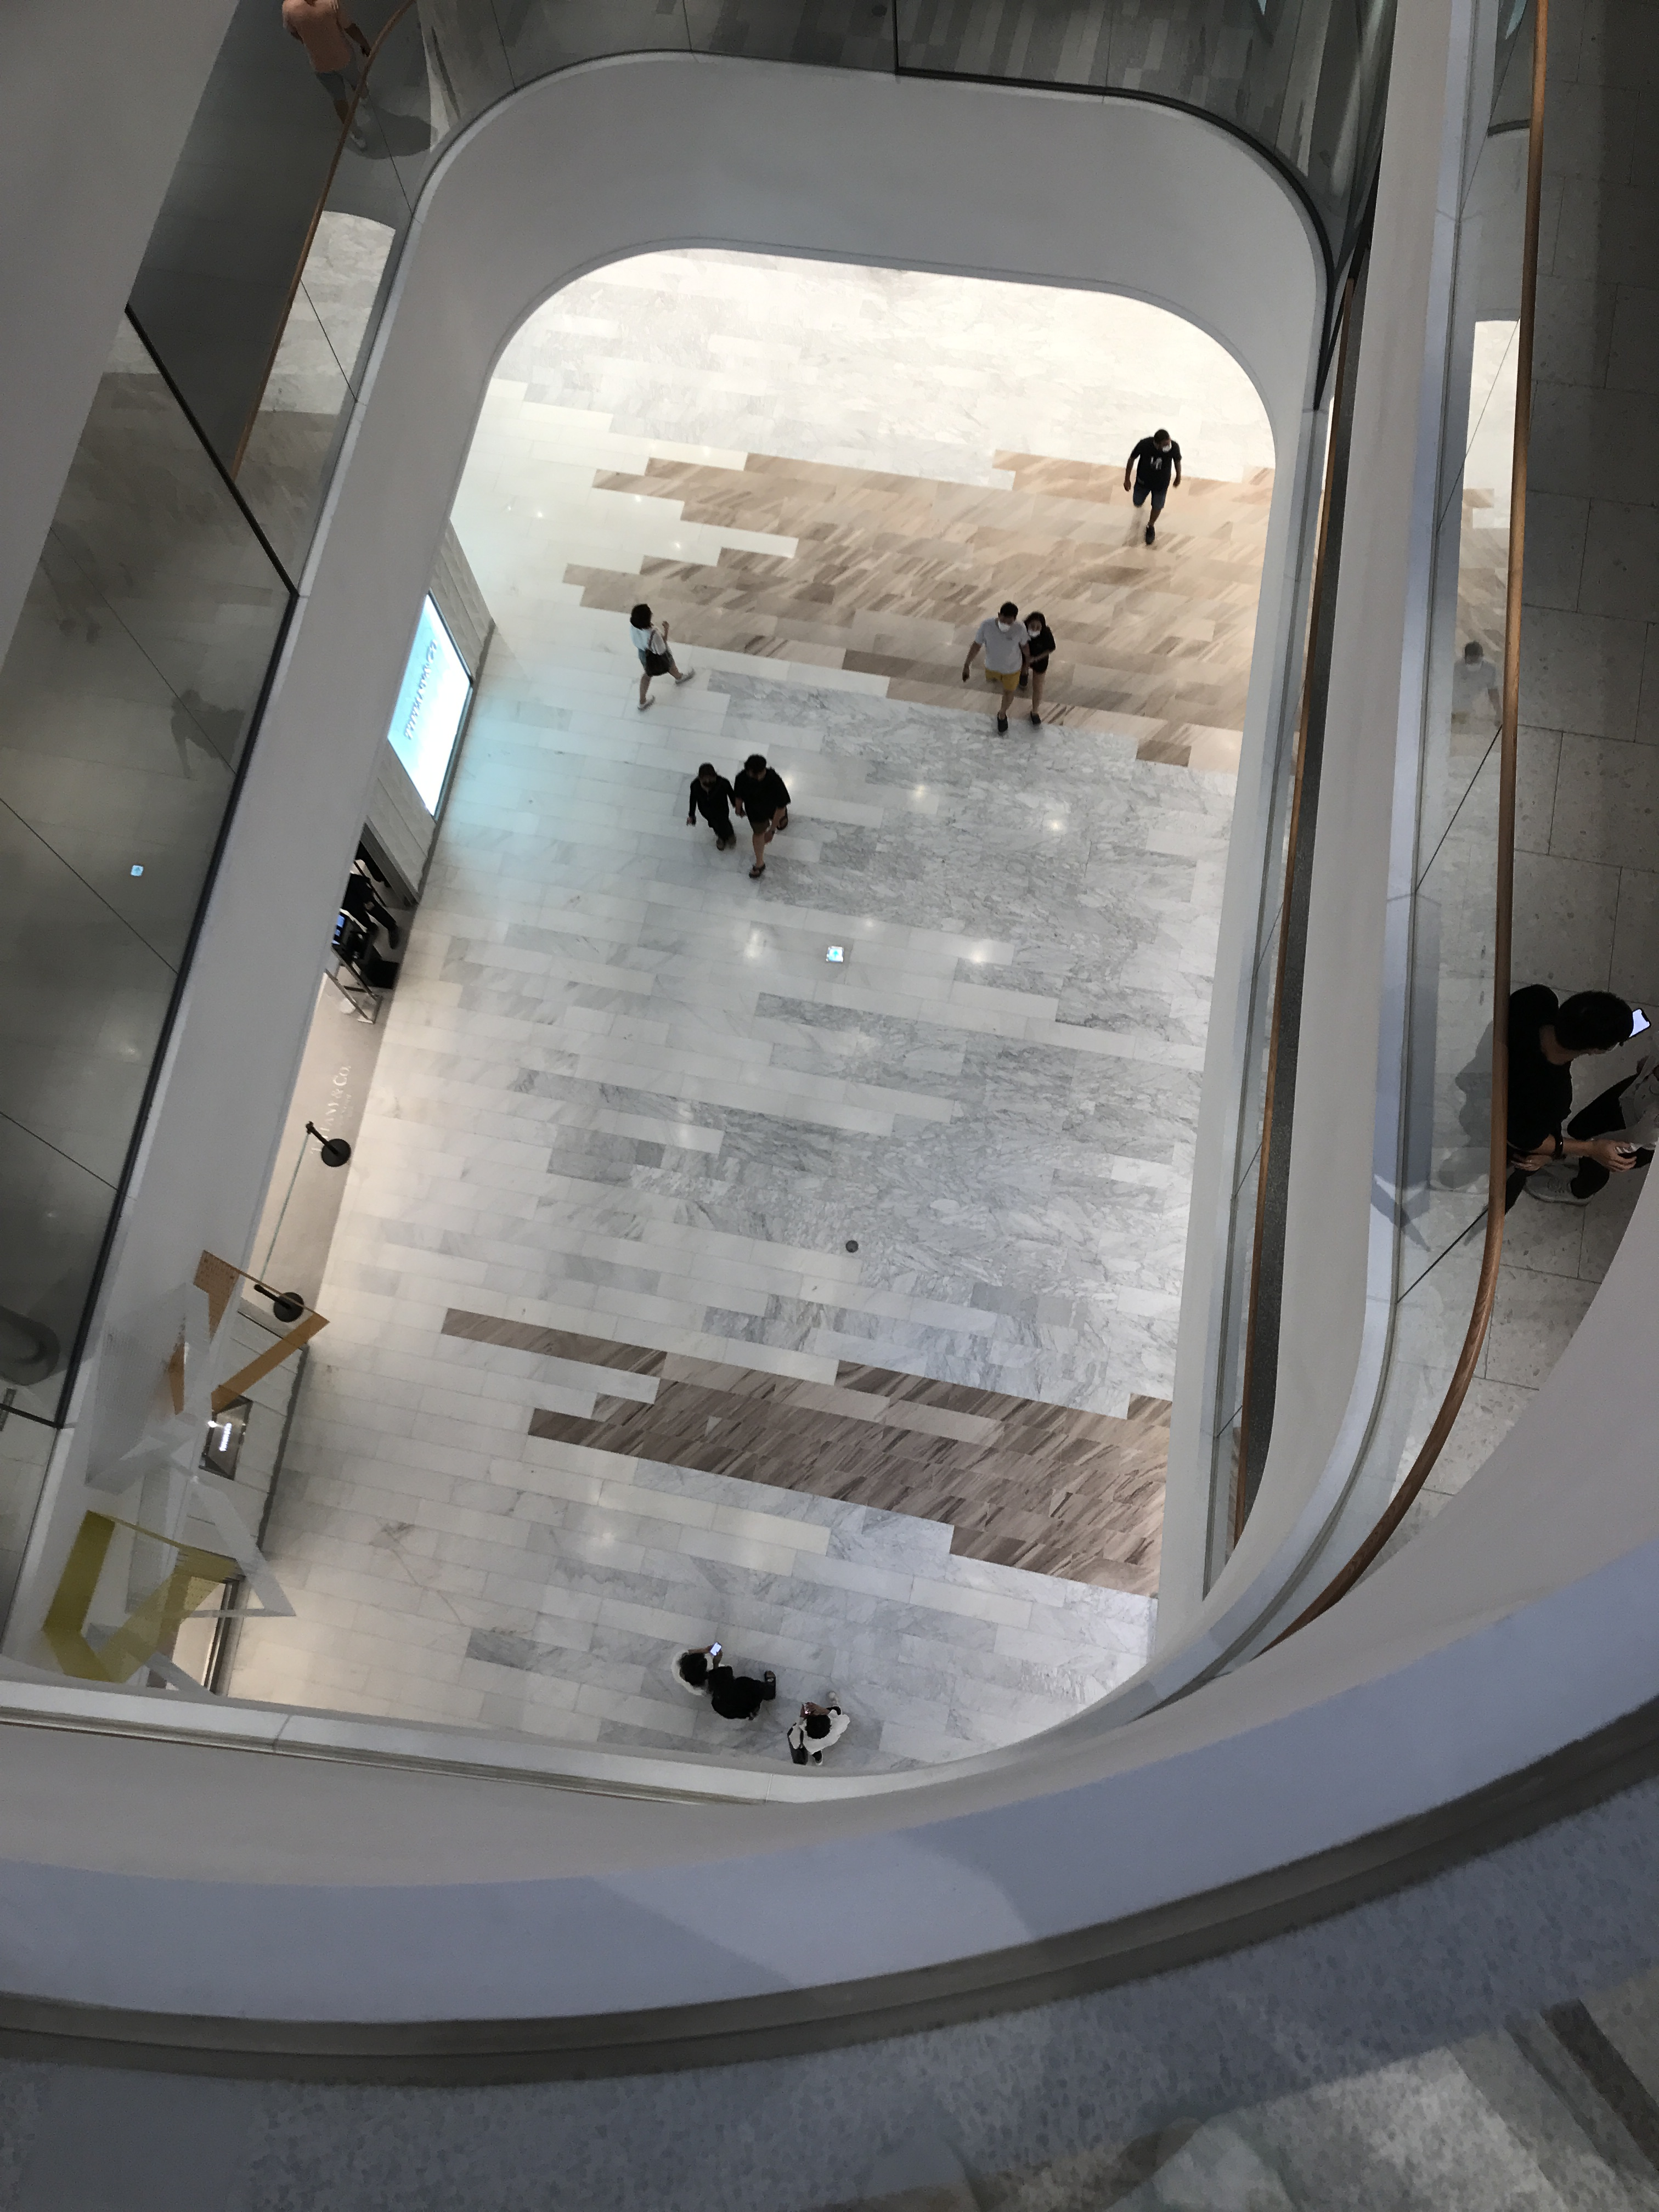person: (1451, 989, 1643, 1214), (280, 1, 378, 151), (960, 602, 1028, 738), (732, 748, 788, 882), (629, 603, 693, 712), (1123, 429, 1181, 547), (687, 765, 741, 852), (784, 1702, 852, 1769), (1018, 612, 1057, 727), (709, 1667, 780, 1724), (674, 1646, 712, 1696)
